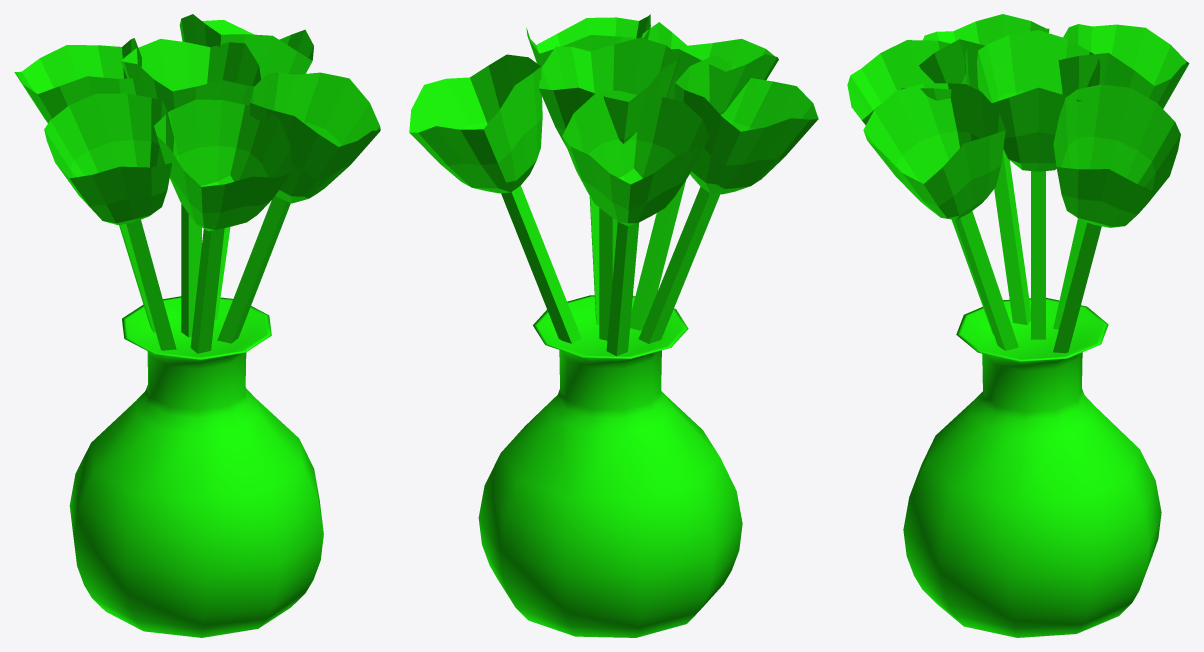
The model's file is vas white blue.fbx.
3 renders of one model, left to right at view 1: azimuth 30°, elevation 25°; view 2: azimuth 150°, elevation 25°; view 3: azimuth 270°, elevation 25°, orthographic.
Parts seen in each view (by area): view 1: vas white blue; view 2: vas white blue; view 3: vas white blue.
Boxes of the visible parts, x1,y1,x2,y2 form: vas white blue: (14,14,380,637); vas white blue: (409,14,818,637); vas white blue: (847,14,1189,637).
Size of the model in its own units: 0.2909 by 0.4761 by 0.2733.
